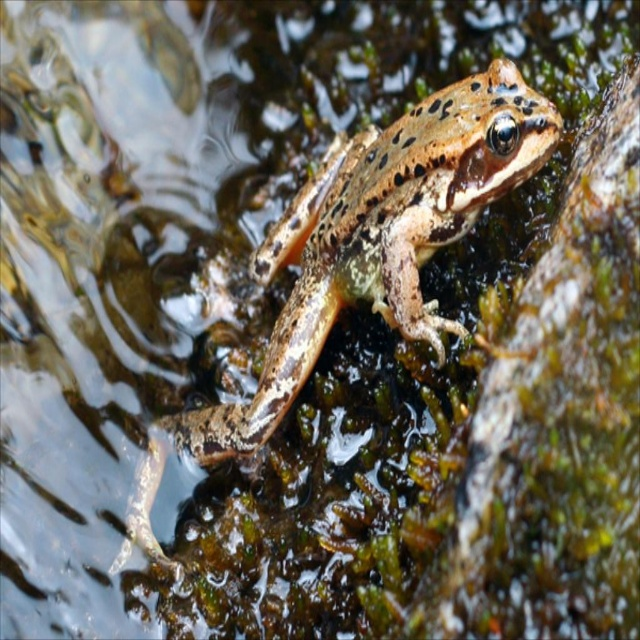Frog: (108, 59, 563, 582)
